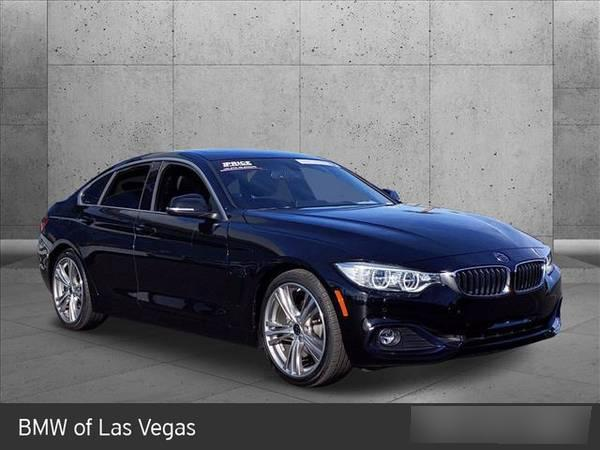Front_Bumper: (331, 268, 567, 363)
Front_Fender: (222, 211, 363, 347)
Front_Right_Door: (146, 214, 226, 340)
Front_Right_Window: (150, 160, 232, 221)
Front_Windshield: (214, 156, 399, 210)
Grille: (441, 248, 555, 297)
Hood: (243, 204, 547, 272)
Rear_Fender: (37, 203, 94, 277)
Rear_Right_Door: (79, 206, 150, 320)
Rear_Right_Window: (81, 160, 156, 210)
Right_Headlight: (339, 262, 446, 295)
Roof: (57, 146, 328, 220)
Wheel: (259, 270, 350, 384), (50, 248, 91, 325)
